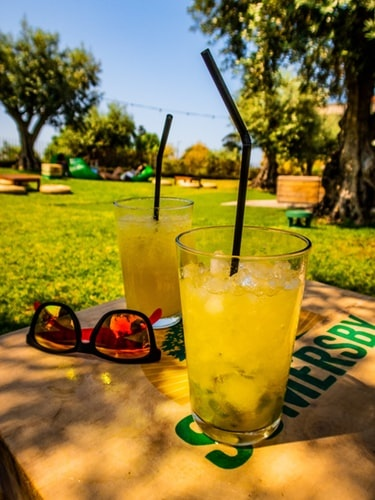whiskey: (176, 224, 310, 434)
